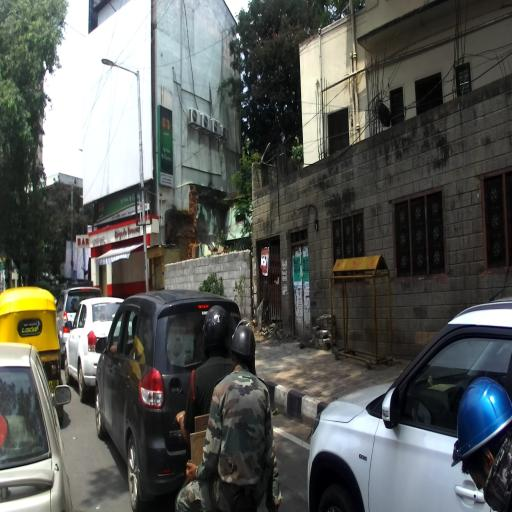street_light_0: (100, 58, 140, 80)
